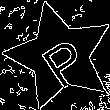P_NW: (30, 25, 90, 87)
